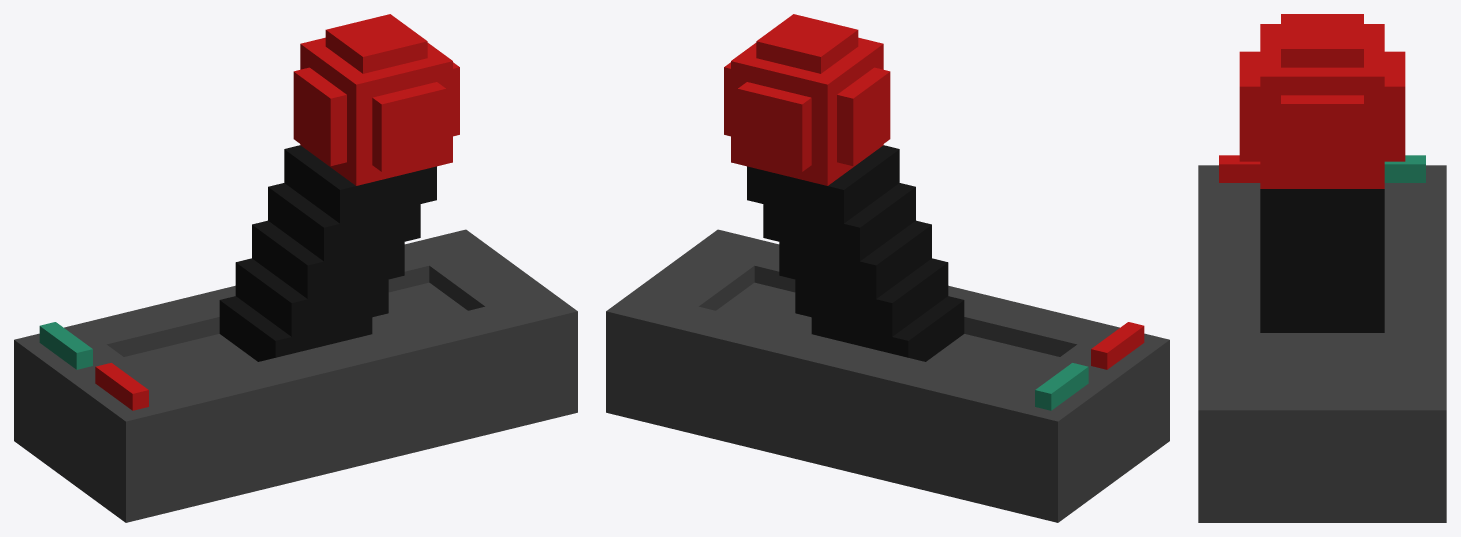
File: Switch.obj
3 renders of one model, left to right at view 1: azimuth 30°, elevation 25°; view 2: azimuth 150°, elevation 25°; view 3: azimuth 270°, elevation 25°, orthographic. The views are drawn at different scales.
Size of the model in its own units: 2.8 by 2.2 by 1.2.
Materials: 1 (1 with a texture image).
